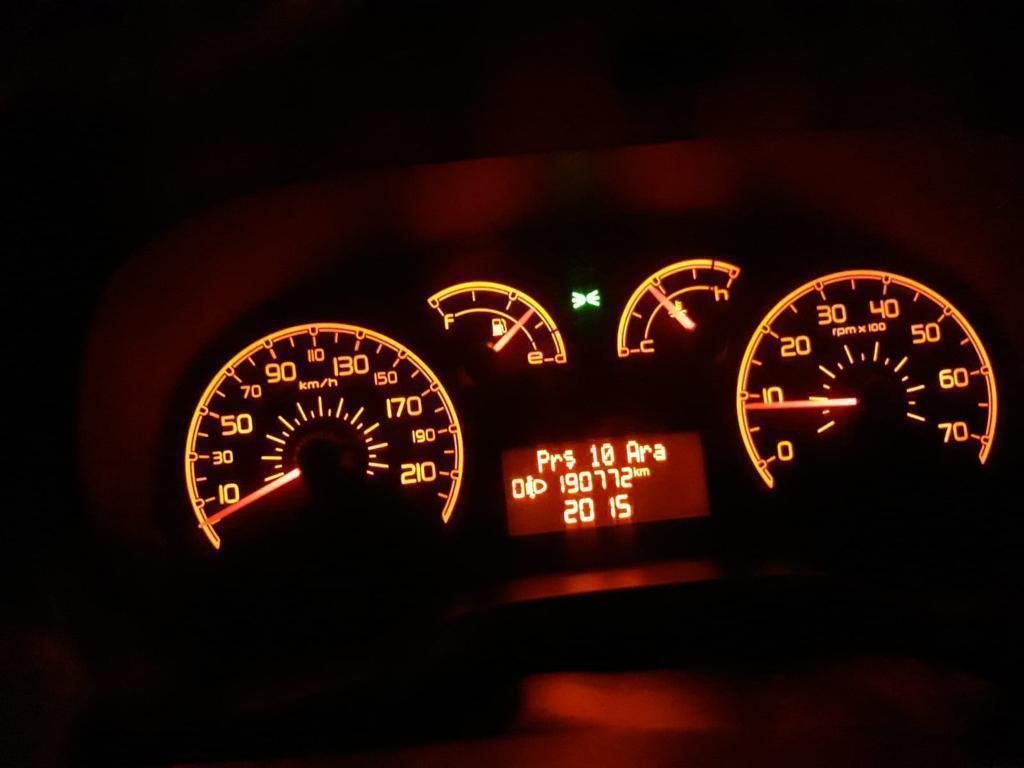0: (578, 497, 595, 522), (600, 442, 615, 465), (579, 470, 593, 493), (510, 477, 525, 498)
1: (587, 442, 600, 468), (608, 495, 616, 520), (559, 473, 564, 495)
2: (563, 499, 578, 524), (620, 466, 633, 488)
5: (616, 493, 631, 519)
7: (607, 468, 620, 488), (594, 469, 606, 490)
9: (565, 471, 578, 494)
X: (626, 440, 640, 464), (535, 449, 549, 473), (652, 442, 666, 462), (563, 449, 576, 469), (639, 445, 652, 462), (550, 453, 562, 471), (640, 467, 650, 476), (633, 465, 640, 477)
odometer: (495, 427, 716, 538)
